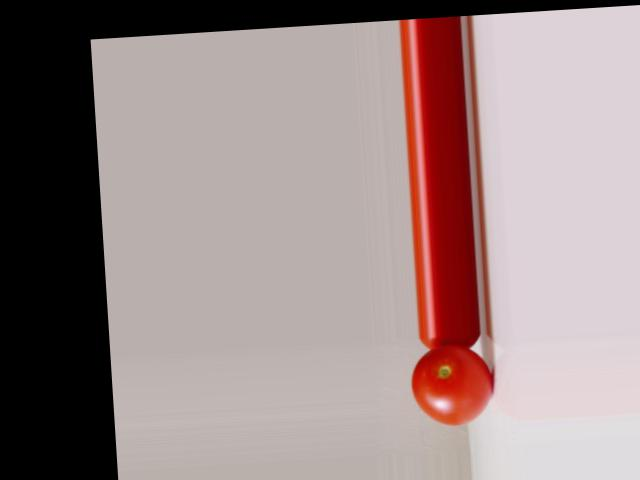tomato: (409, 342, 494, 427)
